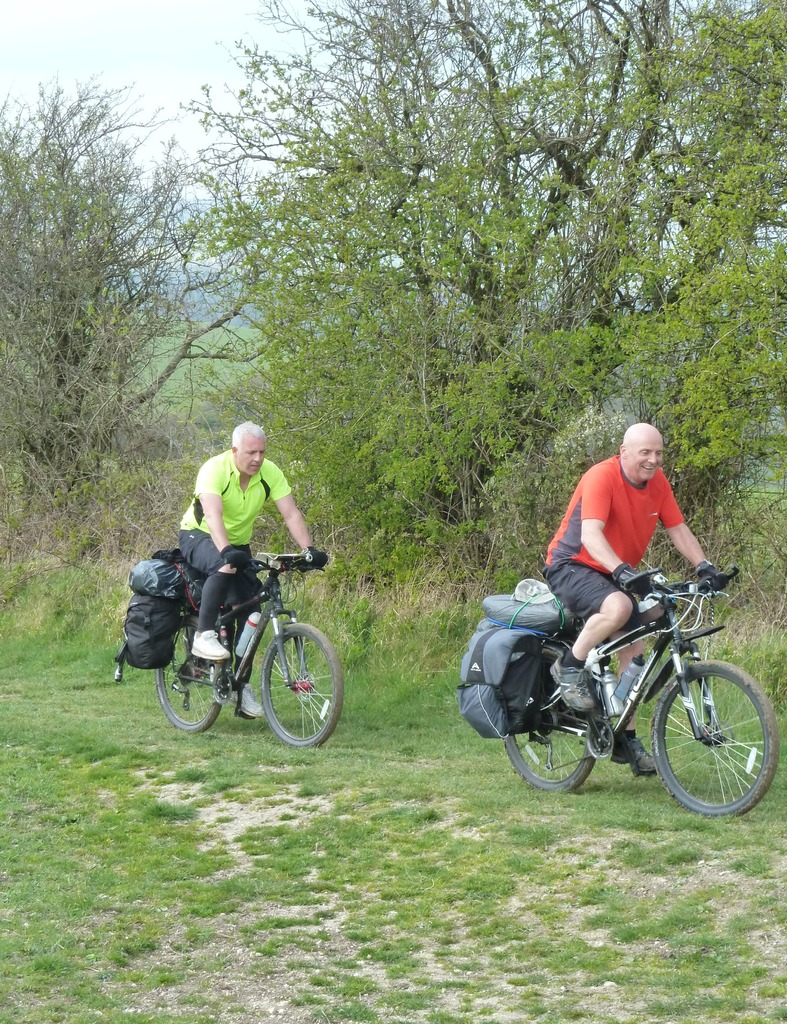Bike: (115, 564, 336, 792)
